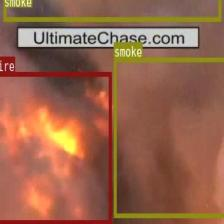fire: (0, 71, 111, 223)
smoke: (114, 57, 224, 217), (2, 0, 220, 20)
